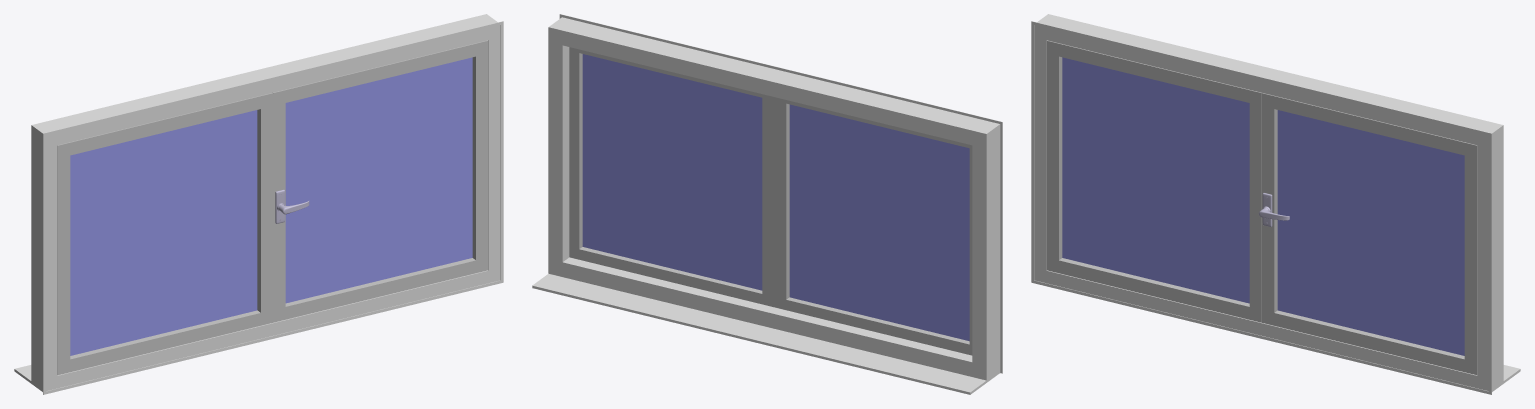
Rendered from window.fbx.
The picture shows the model from 3 angles, left to right: view 1: azimuth 30°, elevation 25°; view 2: azimuth 150°, elevation 25°; view 3: azimuth 330°, elevation 25°; orthographic projection. The views are drawn at different scales.
Parts seen in each view (by area): view 1: Window.L, Window.R, WindowFrame, Handle; view 2: Window.R, Window.L, WindowFrame, Windows_Sill; view 3: Window.L, Window.R, WindowFrame, Handle.
Part boxes in pixels (box(x1,y1,x2,y2)): Window.L: box(57, 93, 273, 374); Window.R: box(273, 40, 488, 322); WindowFrame: box(31, 14, 503, 394); Handle: box(275, 189, 309, 223); Window.R: box(569, 47, 774, 307); Window.L: box(774, 97, 972, 355); WindowFrame: box(548, 14, 1002, 380); Windows_Sill: box(532, 273, 1000, 394); Window.L: box(1046, 40, 1261, 322); Window.R: box(1262, 93, 1477, 374); WindowFrame: box(1031, 14, 1503, 394); Handle: box(1258, 193, 1289, 226).
Bounding box in the file's own units: 188 × 102 × 26.86.
